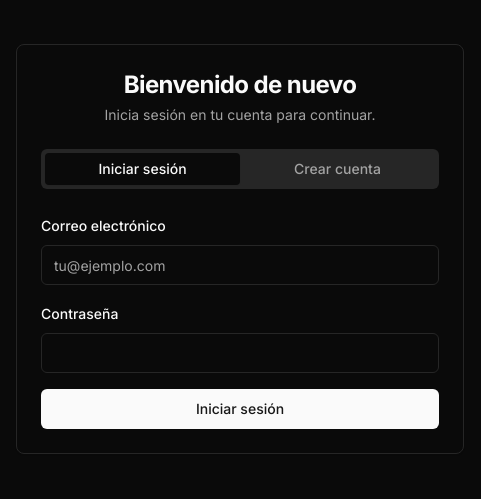
Scenario: LoginPage form › shows translated validation errors when submitting empty login (es)
Click the button "Iniciar sesión". click: (240, 409)
box: [41,389,439,429]
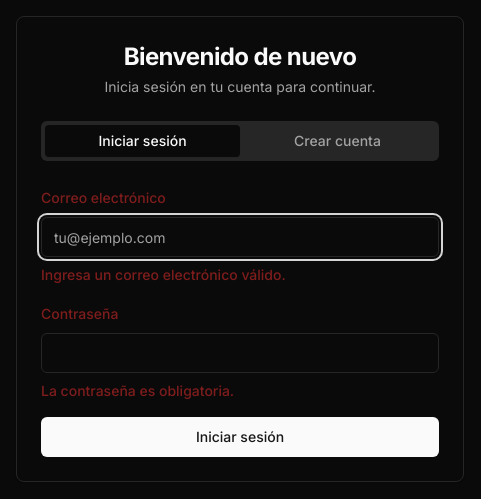
Expected: the text "Ingresa un correo electrónico válido." is shown, [41,266,286,283]
Expected: the text "La contraseña es obligatoria." is shown, [41,382,234,399]
